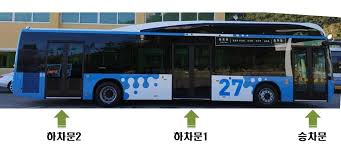entrance: (290, 42, 329, 101)
